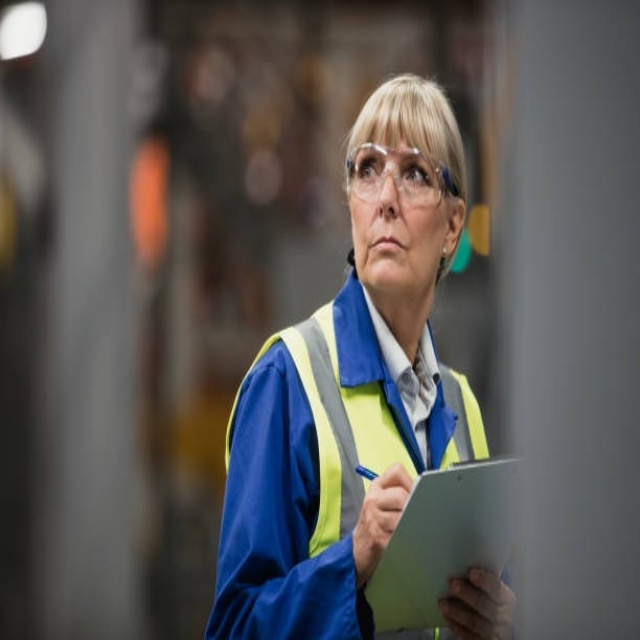Gafas: (345, 143, 456, 206)
Sin_guantes: (353, 460, 418, 584), (438, 562, 517, 640)
Sin_mascara: (361, 224, 414, 275)
